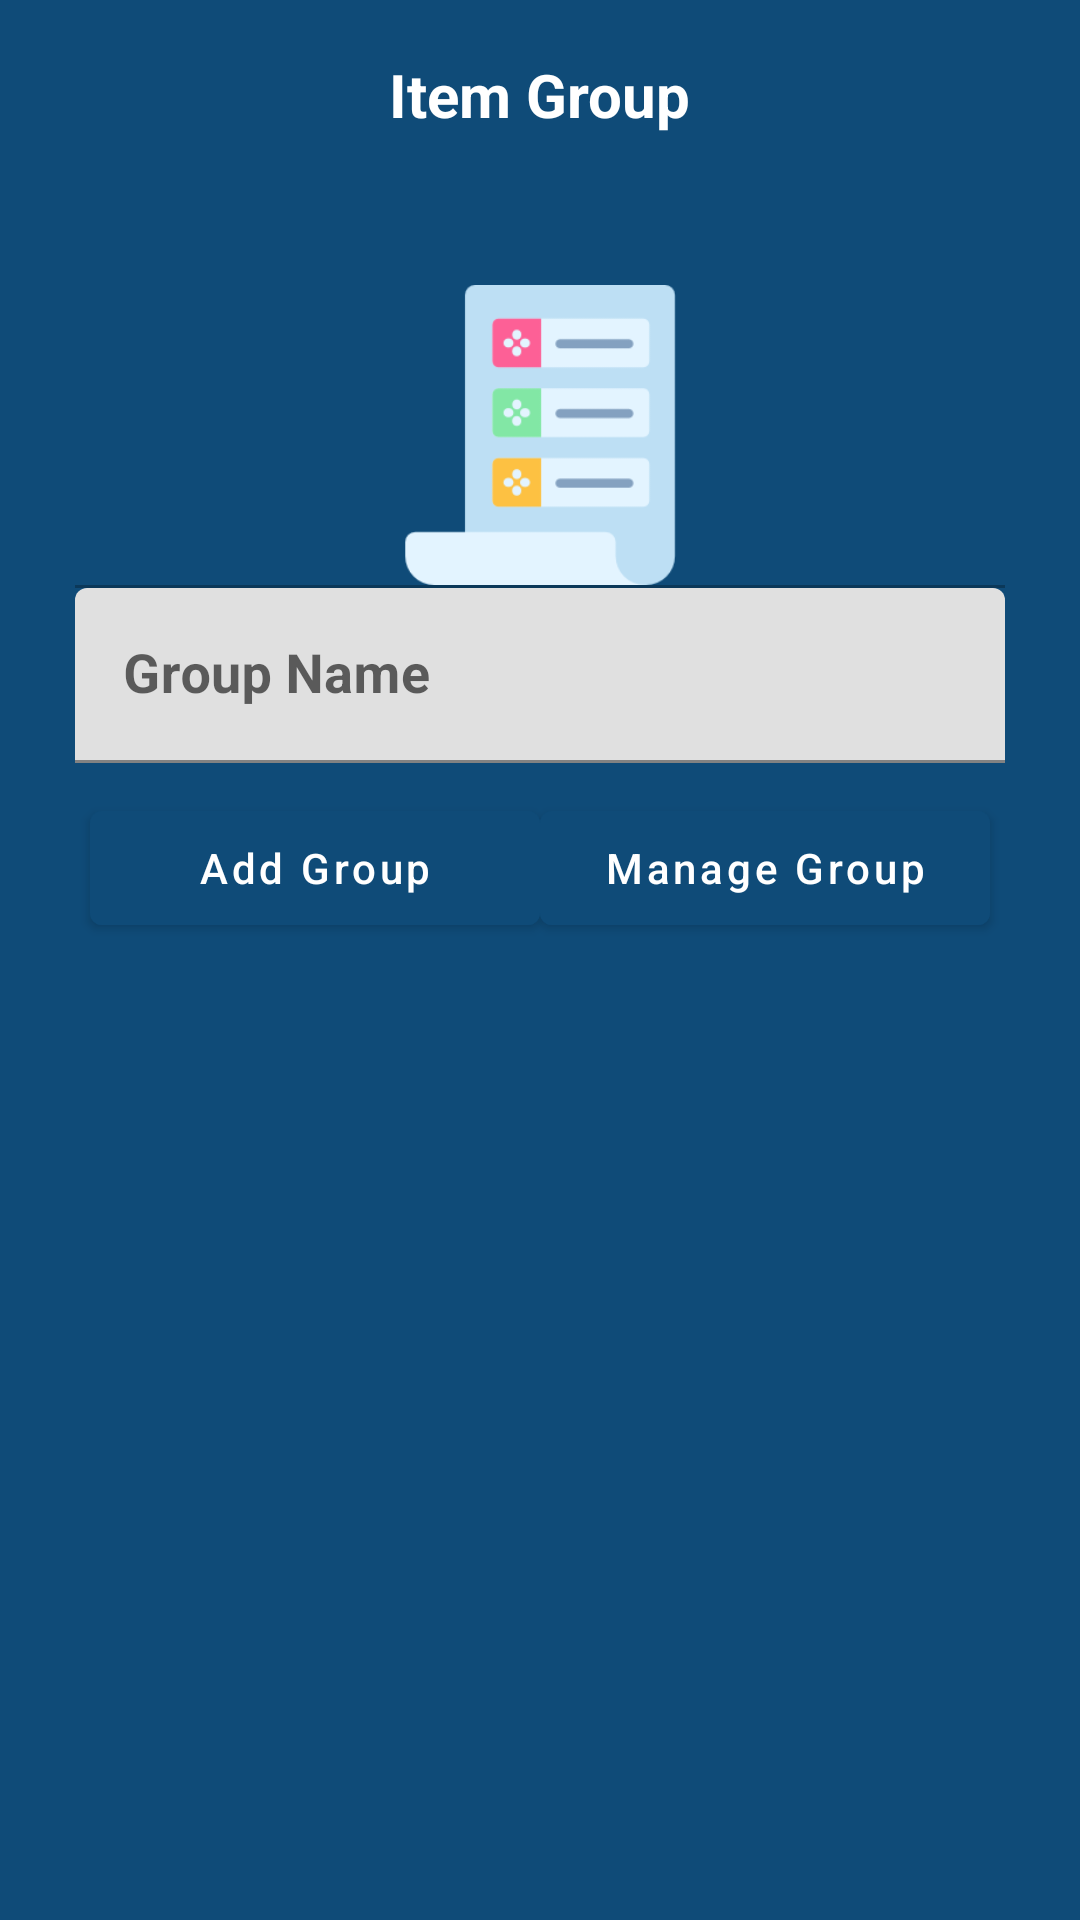

Icon click points for this 1080px×1920px phone screenshot, format point (x, y):
list: point (540, 435)
